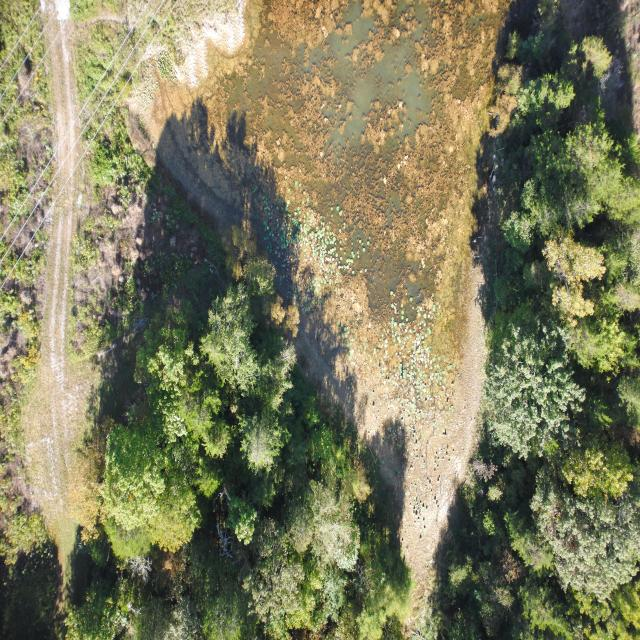Area of Interest: (81, 221, 420, 617), (443, 68, 640, 631)
